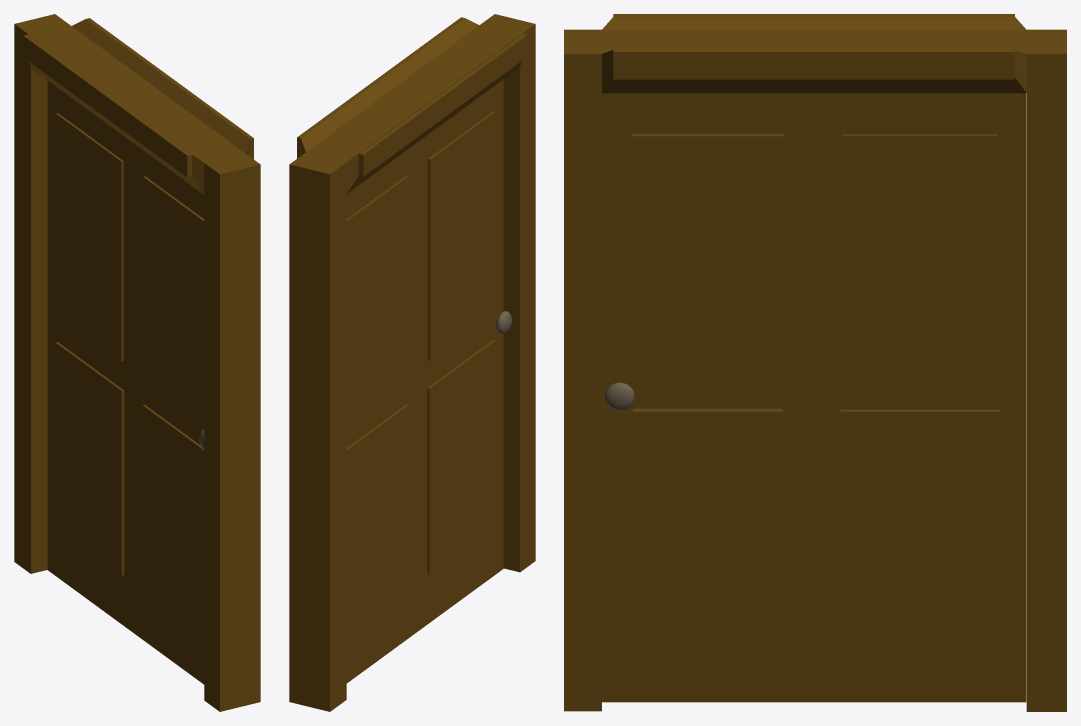
Rendered from Puerta.fbx.
The picture shows the model from 3 angles, left to right: view 1: azimuth 30°, elevation 25°; view 2: azimuth 150°, elevation 25°; view 3: azimuth 270°, elevation 25°; orthographic projection. The views are drawn at different scales.
Visible parts, largest first — view 1: Cube, Cubo; view 2: Cube, Cubo; view 3: Cube, Cubo.
Part boxes in pixels (x1,y1,x2,y2): Cube: (47,81,204,684); Cubo: (14,14,260,711); Cube: (346,79,511,683); Cubo: (289,14,535,711); Cube: (602,93,1026,702); Cubo: (564,14,1066,711).
Size of the model in its own units: 95.82 by 752 by 513.
